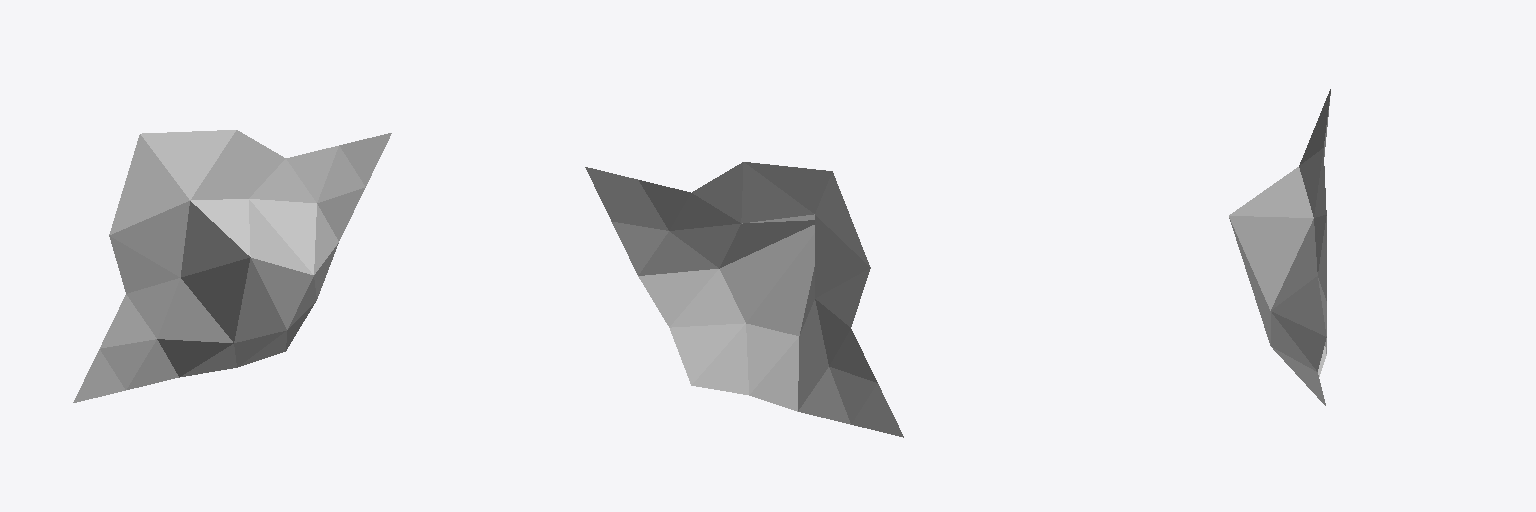
Rendered from spaceship.obj.
3 renders of one model, left to right at view 1: azimuth 30°, elevation 25°; view 2: azimuth 150°, elevation 25°; view 3: azimuth 270°, elevation 25°, orthographic.
Size of the model in its own units: 6 by 4.51 by 1.67.